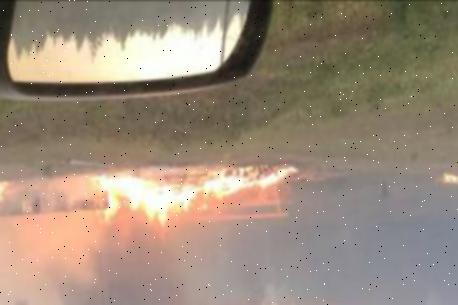fire: (90, 157, 302, 230)
